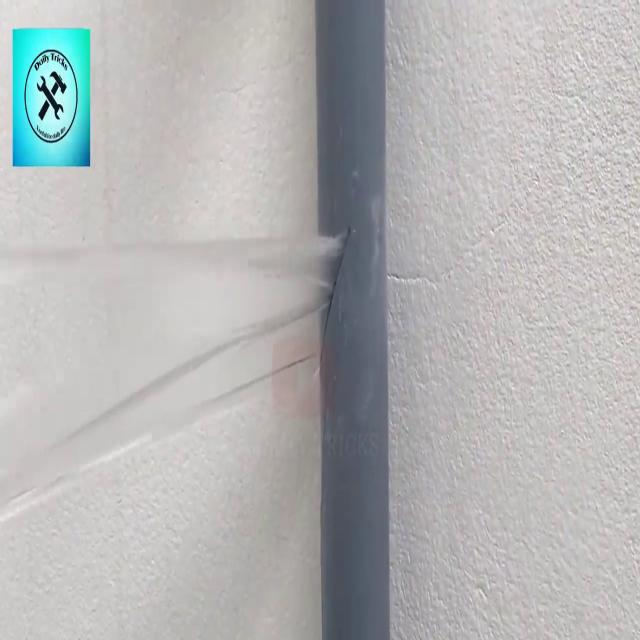leak: (0, 225, 353, 523)
